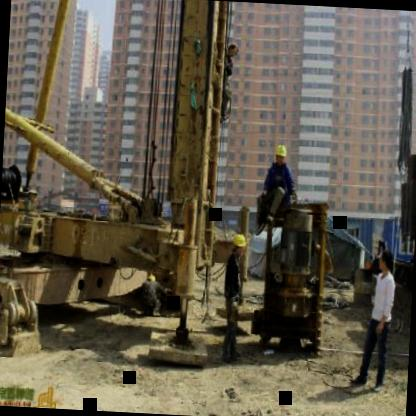head: (376, 245, 396, 274)
helmet: (228, 230, 247, 262), (270, 142, 288, 169)
